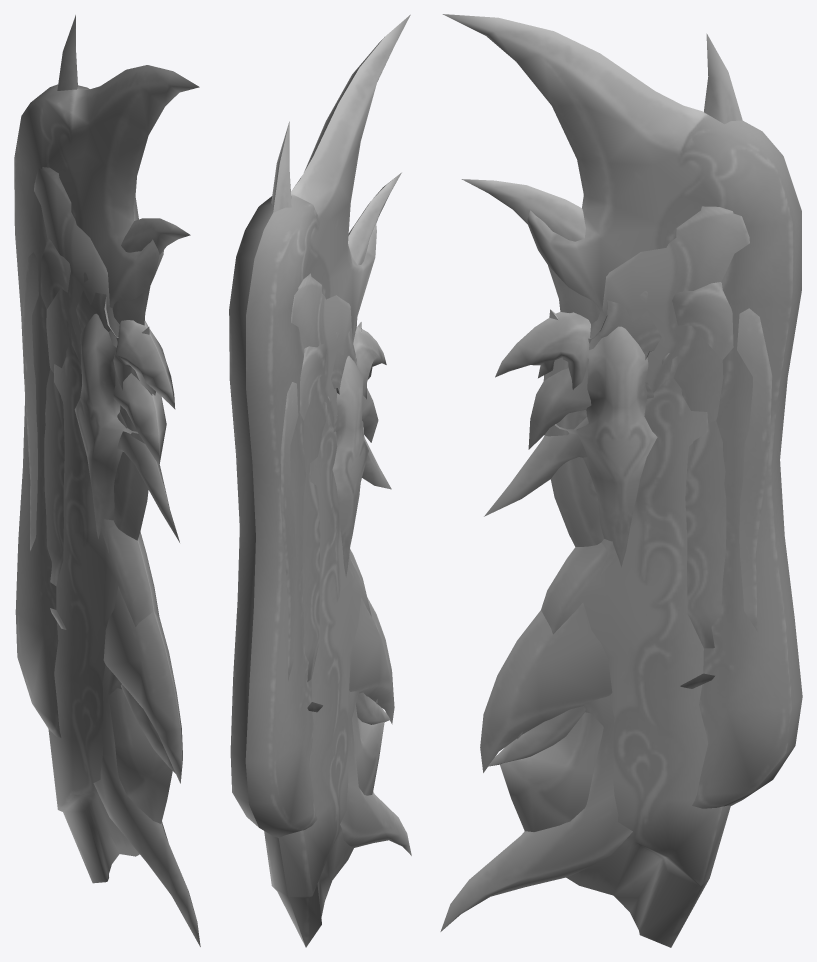
Rendered from zhexingcuishan_source_variant_input_02.glb.
3 renders of one model, left to right at view 1: azimuth 30°, elevation 25°; view 2: azimuth 150°, elevation 25°; view 3: azimuth 270°, elevation 25°, orthographic. The views are drawn at different scales.
Parts seen in each view (by area): view 1: wp_saber_xingtian; view 2: wp_saber_xingtian; view 3: wp_saber_xingtian.
Part boxes in pixels (x1=…): wp_saber_xingtian: x1=14, y1=15, x2=200, y2=946; wp_saber_xingtian: x1=229, y1=14, x2=411, y2=947; wp_saber_xingtian: x1=440, y1=14, x2=802, y2=947.
Bounding box in the file's own units: 0.0442 × 0.5536 × 0.1947.
1 material, 1 textured.
